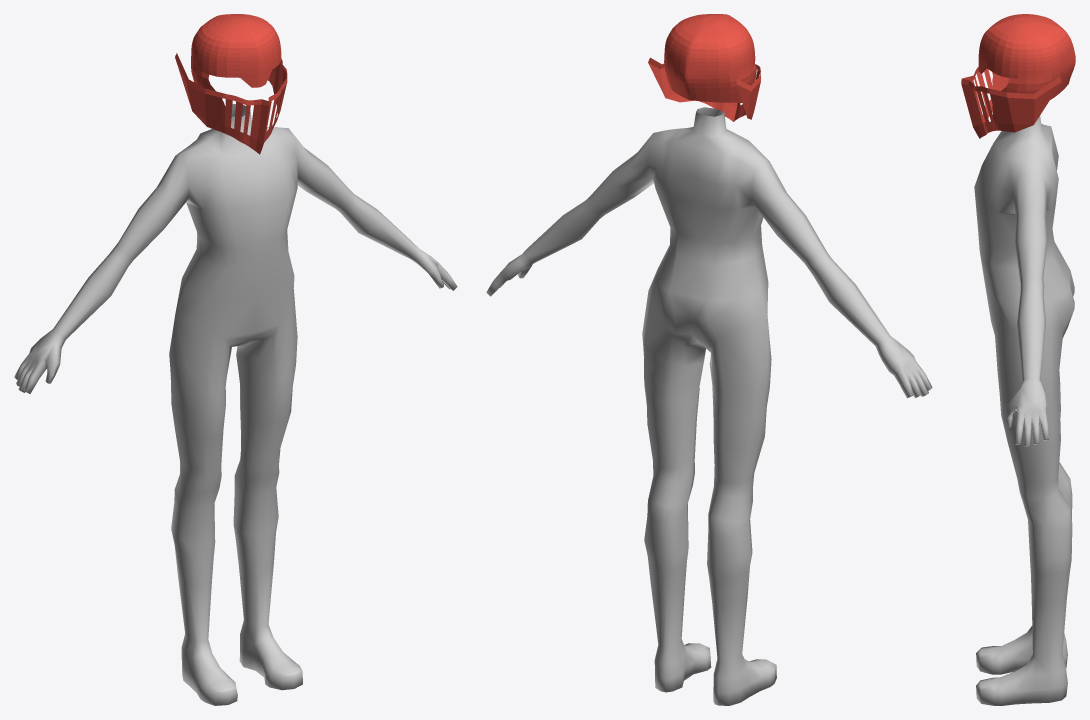
File: HumanCharactorNonHead.fbx
The picture shows the model from 3 angles, left to right: view 1: azimuth 30°, elevation 25°; view 2: azimuth 150°, elevation 25°; view 3: azimuth 270°, elevation 25°; orthographic projection.
Visible parts, largest first — view 1: Cylinder; view 2: Cylinder; view 3: Cylinder.
Part boxes in pixels (x1,y1,x2,y2): Cylinder: [14, 14, 457, 705]; Cylinder: [486, 14, 932, 705]; Cylinder: [961, 14, 1075, 705].
Bounding box in the file's own units: 552 × 801 × 126.
